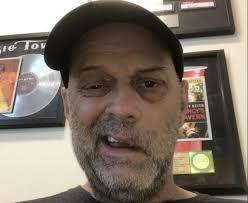strokeEyeMid: (77, 65, 167, 99)
strokeMouthSevere: (95, 130, 148, 155)
